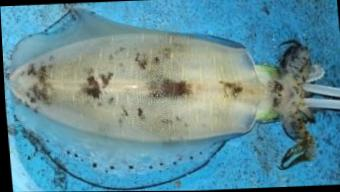Cephalopod: (6, 4, 340, 190)
